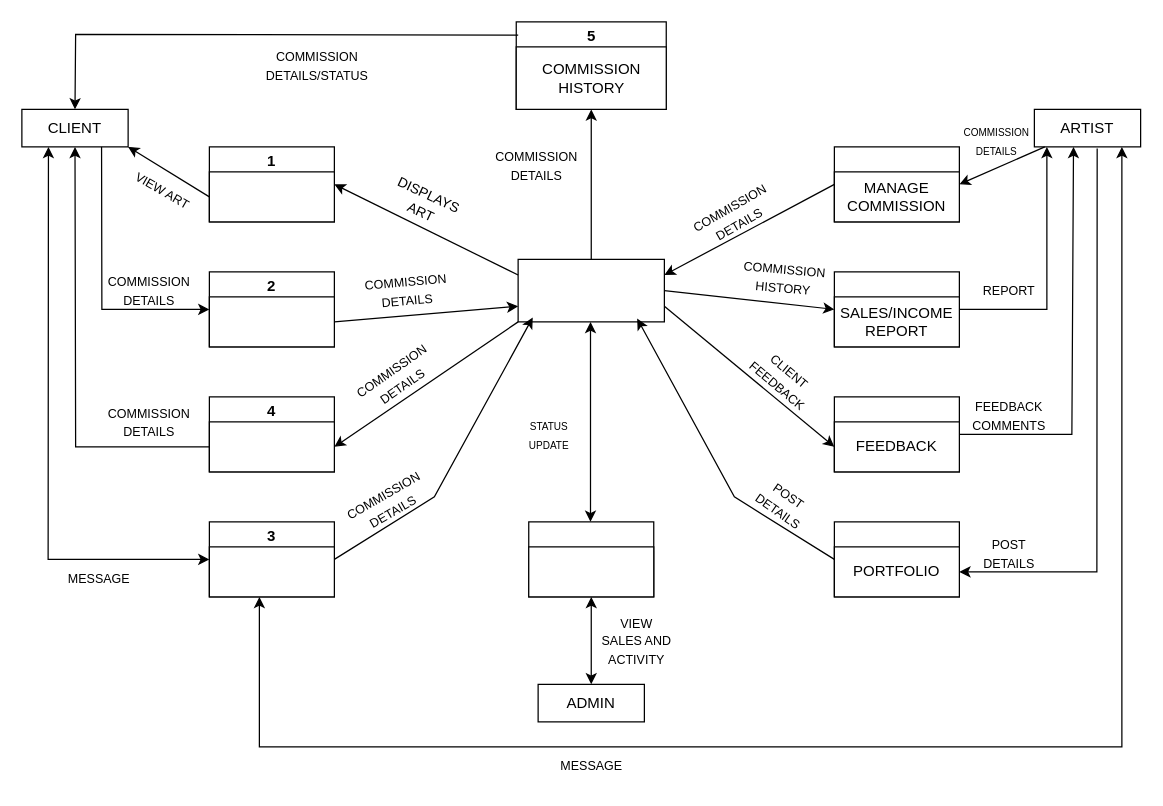
Some shapes in this 1163 by 806 pixel diagram are drawn without their labels. The shapes that lost their labels are listed below. From the top down, each one's box as (x1, y1, x2, y2) in pixels, then its label:
(208, 171, 334, 222): BROWSE/PAY
(517, 258, 664, 322): DATABASE
(208, 296, 334, 347): COMMISSION
(208, 421, 334, 472): TRACK COMMISSION
(208, 546, 334, 597): CHAT
(528, 546, 654, 597): MONITOR ARTISTS
